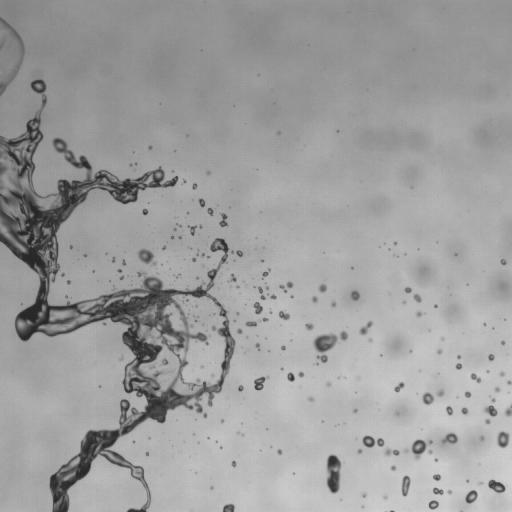droplet: (312, 331, 347, 362), (404, 439, 432, 460), (137, 248, 156, 265), (488, 479, 506, 493), (496, 431, 509, 447), (254, 376, 268, 390), (483, 404, 497, 416), (442, 432, 457, 443), (422, 392, 434, 405), (465, 490, 477, 503), (279, 281, 293, 292), (384, 447, 399, 456), (0, 36, 9, 50), (253, 301, 262, 314), (278, 311, 290, 320), (394, 382, 404, 392), (222, 503, 234, 511), (504, 404, 511, 417), (350, 290, 359, 300), (428, 500, 438, 509), (188, 225, 196, 235), (228, 273, 236, 282), (433, 487, 443, 494), (318, 284, 326, 292), (413, 294, 421, 302), (305, 322, 313, 330), (198, 198, 205, 207), (287, 372, 294, 381), (446, 406, 453, 415), (235, 250, 243, 257), (436, 389, 444, 396), (461, 407, 468, 414), (207, 207, 213, 215), (433, 474, 441, 480), (488, 354, 494, 361), (500, 259, 506, 265), (405, 287, 411, 293), (436, 348, 442, 354), (456, 363, 462, 369), (464, 391, 470, 397), (142, 208, 147, 215), (269, 294, 276, 299), (312, 296, 317, 303), (331, 301, 336, 307), (416, 311, 422, 316), (255, 343, 260, 349), (238, 385, 243, 391), (308, 396, 314, 401), (390, 465, 396, 470), (260, 317, 267, 321), (237, 328, 242, 333), (298, 372, 303, 377), (494, 387, 499, 392), (490, 397, 495, 402), (485, 419, 490, 424), (277, 449, 282, 454), (357, 448, 362, 453), (231, 461, 236, 466), (192, 183, 196, 189), (182, 179, 186, 184), (162, 245, 166, 250), (281, 345, 285, 350), (119, 355, 123, 360), (326, 381, 330, 386), (447, 490, 452, 494), (148, 145, 152, 149), (192, 257, 196, 261), (120, 275, 124, 279), (500, 372, 504, 376), (507, 380, 511, 384), (480, 436, 484, 440), (383, 495, 387, 499), (122, 260, 125, 265), (206, 171, 209, 175), (112, 257, 115, 261), (457, 355, 460, 359), (239, 432, 243, 435), (362, 493, 366, 496), (69, 245, 72, 248), (118, 269, 121, 272), (61, 273, 64, 276), (67, 280, 70, 283), (265, 286, 268, 289), (434, 304, 437, 307), (369, 338, 372, 341), (501, 341, 504, 344), (176, 274, 180, 276), (177, 224, 180, 226), (199, 225, 202, 227), (394, 241, 396, 244), (237, 285, 239, 288), (290, 295, 293, 297), (483, 323, 486, 325), (486, 370, 489, 372), (354, 409, 356, 412), (435, 458, 437, 461), (478, 482, 481, 484), (278, 132, 280, 134), (174, 228, 176, 230), (179, 236, 181, 238), (261, 260, 263, 262), (269, 310, 271, 312), (442, 337, 444, 339), (410, 350, 412, 352), (315, 363, 317, 365), (221, 420, 223, 422), (146, 452, 148, 454)
ligament: (0, 80, 235, 511), (0, 17, 24, 95), (326, 454, 342, 493), (362, 435, 384, 447), (0, 161, 7, 189), (401, 475, 410, 496), (359, 321, 372, 335), (219, 213, 227, 227), (257, 287, 266, 299), (470, 373, 481, 382), (197, 250, 209, 258), (245, 321, 258, 327), (262, 269, 270, 278), (390, 510, 394, 511)
